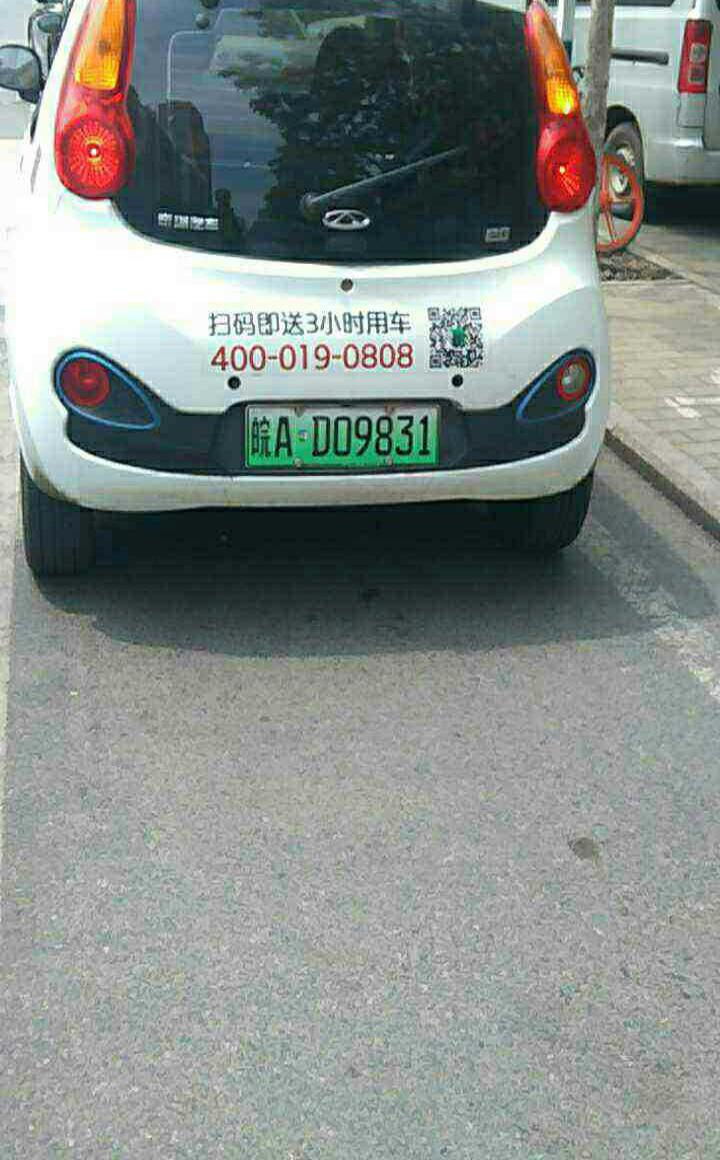car_id: (245, 406, 438, 465)
